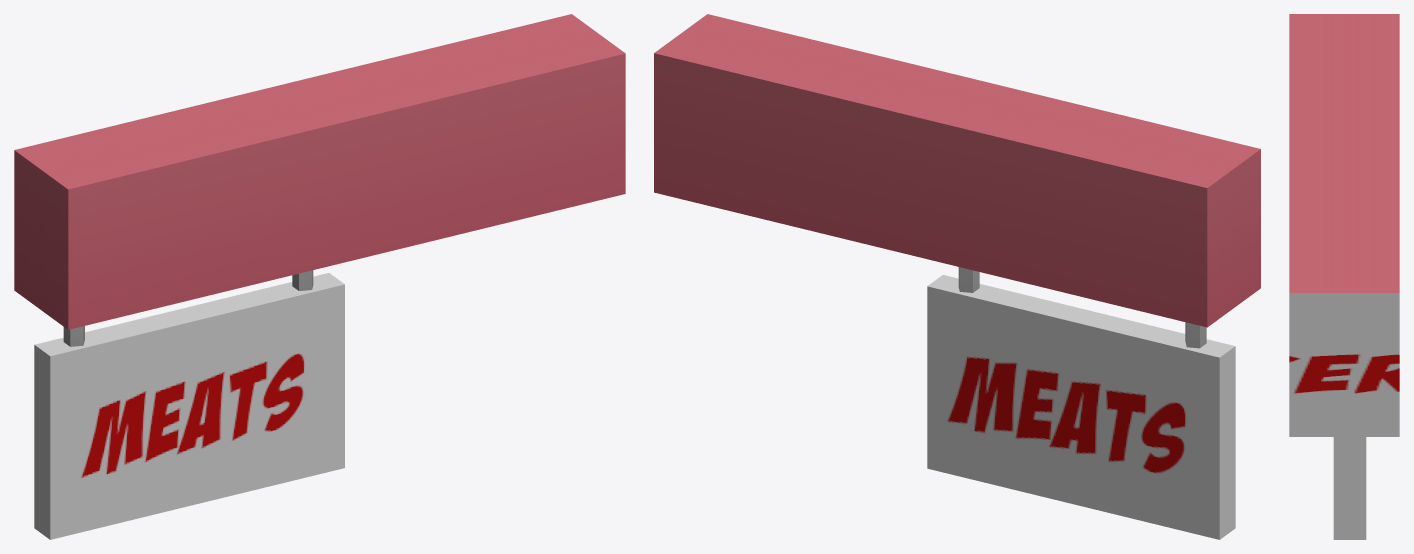
File: deli_meatsSign.fbx
3 views of the same model, side by side, from view 1: azimuth 30°, elevation 25°; view 2: azimuth 150°, elevation 25°; view 3: azimuth 270°, elevation 25° (orthographic). The views are drawn at different scales.
Parts seen in each view (by area): view 1: deli_meatSign; view 2: deli_meatSign; view 3: deli_meatSign.
Boxes of the visible parts, x1,y1,x2,y2 form: deli_meatSign: (14,14,625,539); deli_meatSign: (654,14,1260,539); deli_meatSign: (1289,14,1399,539).
Size of the model in its own units: 408 by 257 by 68.47.
Materials: 1 (1 with a texture image).
